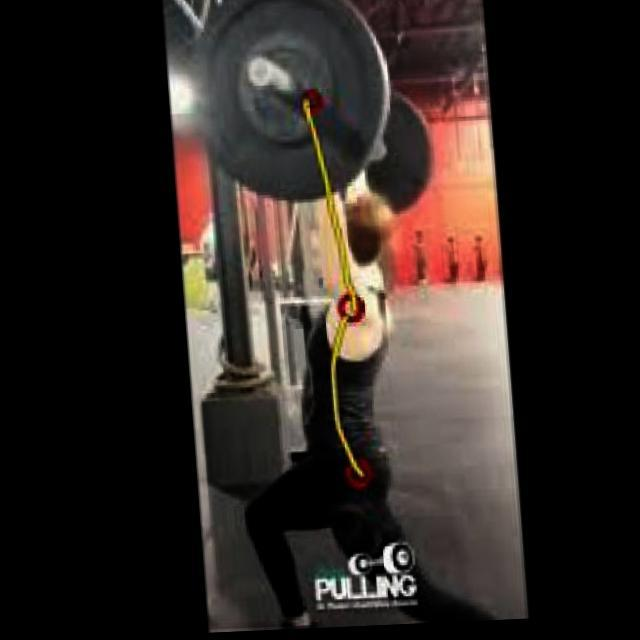barbell: (178, 1, 404, 212)
